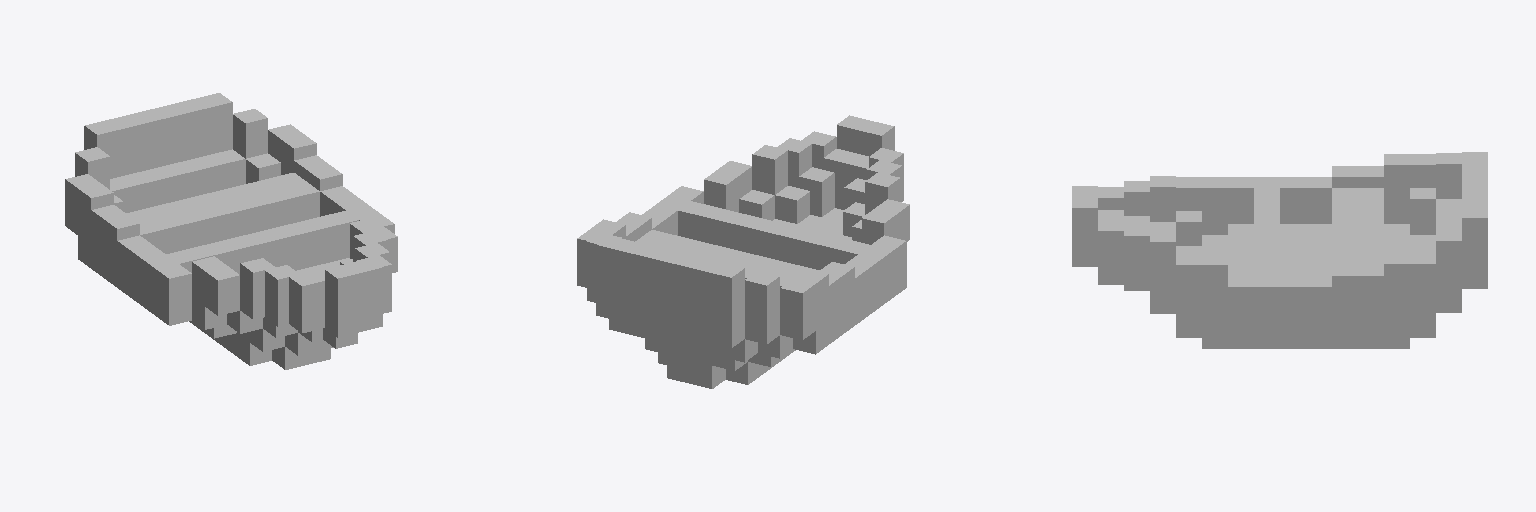
Rendered from test_boat.obj.
The picture shows the model from 3 angles: view 1: azimuth 30°, elevation 25°; view 2: azimuth 150°, elevation 25°; view 3: azimuth 270°, elevation 25°; orthographic projection.
Visible parts, largest first — view 1: Tile_Boat; view 2: Tile_Boat; view 3: Tile_Boat.
Part boxes in pixels (bbox=[...]): Tile_Boat: bbox=[65, 93, 397, 369]; Tile_Boat: bbox=[577, 115, 909, 388]; Tile_Boat: bbox=[1072, 152, 1487, 348].
Size of the model in its own units: 2 by 1.2 by 3.2.